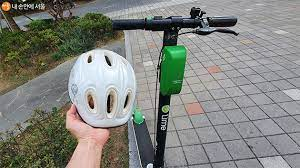kick_body: (135, 125, 154, 163)
kick_handler: (110, 7, 238, 38)
kick_neck: (156, 38, 180, 164)
